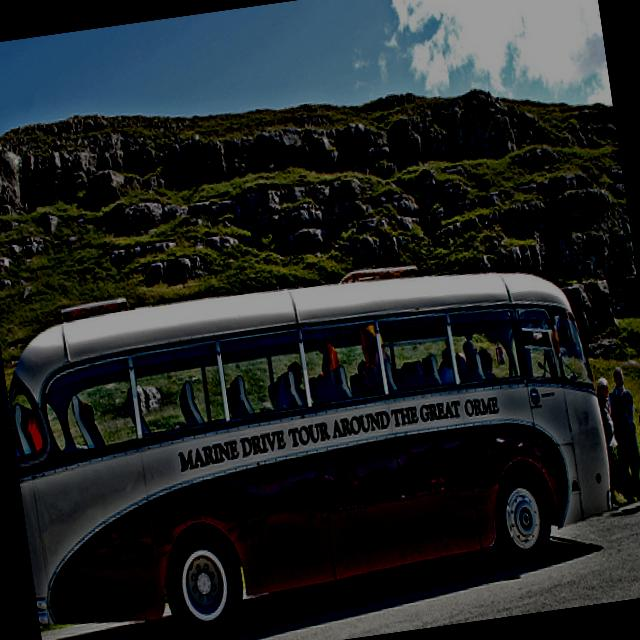Vehicle: (0, 230, 632, 640)
